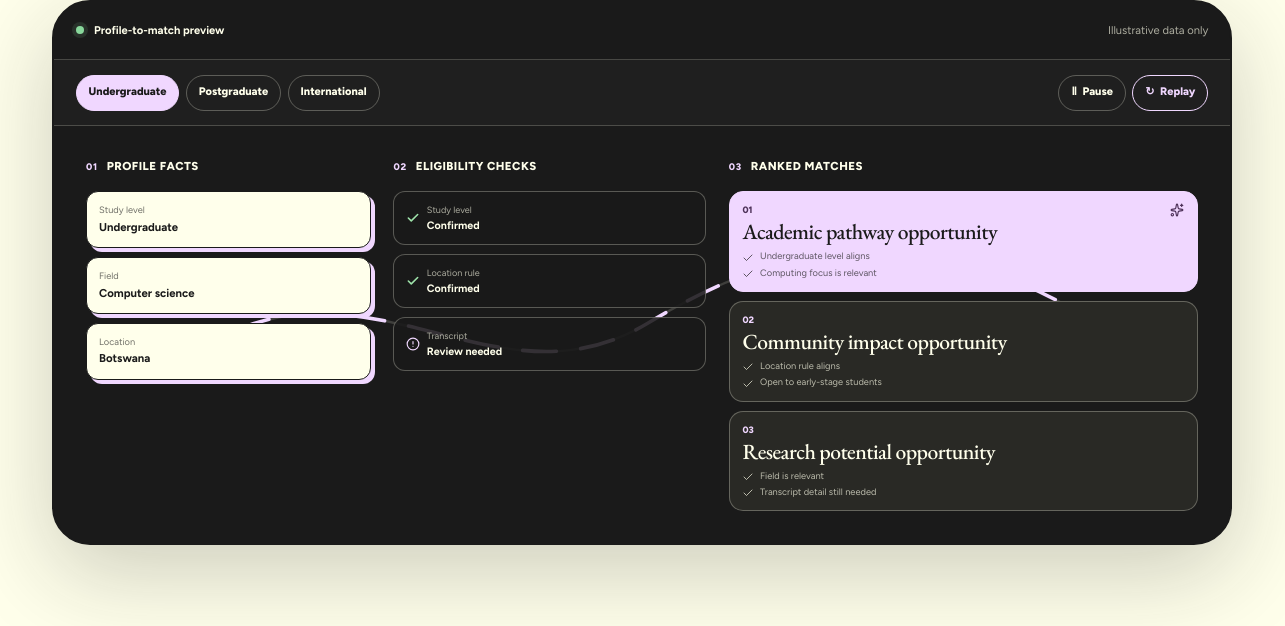
Test case: HeroMatcher › switches scenarios and updates facts, checks, rankings, and one live summary
The width and height of the screenshot is (1285, 626).
Check: the text "Computer science" is shown, box [99,286,194,300]
Check: the number of list items with class "hero-matcher__fact-token" is 3, box [86,191,371,248]; [86,257,371,314]; [86,323,371,380]
Step 1. Click the tab "Postgraduate" → (234, 92), box [186,74,281,110]
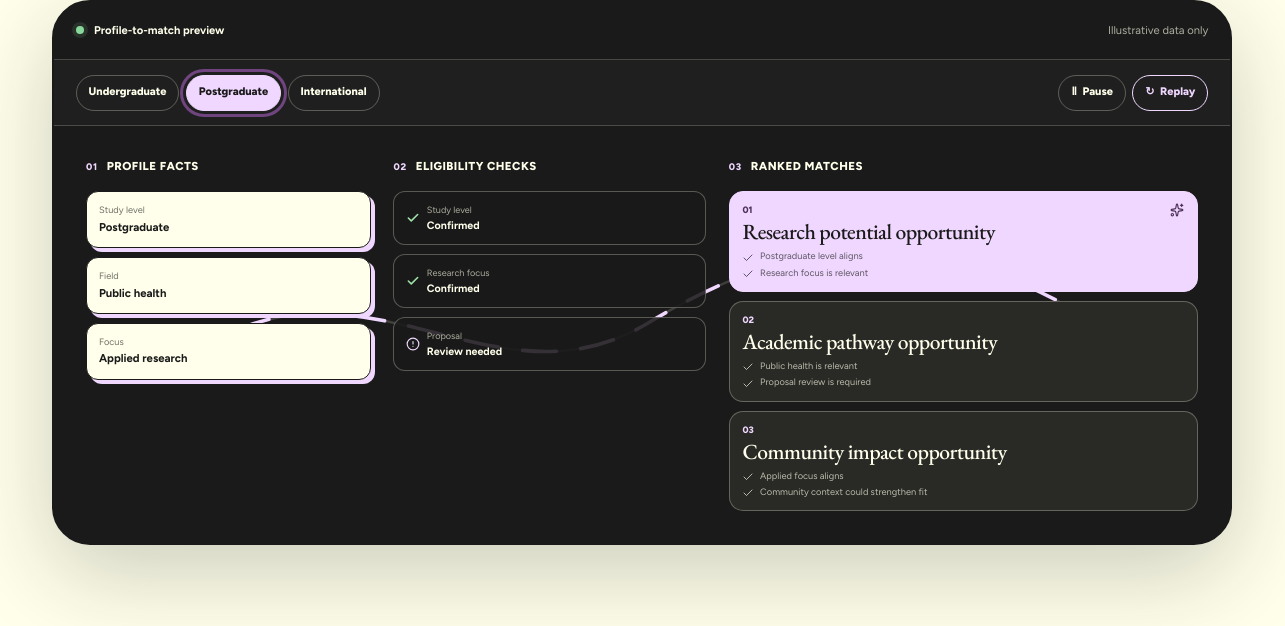
Check: the element with class "hero-matcher__match-card" that starts with "Research potential opportunity" is shown, box [729,191,1198,292]
Check: the text "Public health" is shown, box [99,286,166,300]
Check: the text "Proposal" is shown, box [427,330,462,340]
